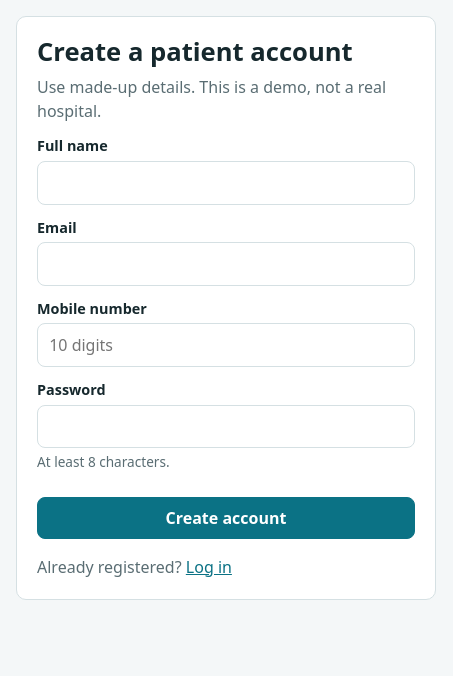
it: Register › shows the server's message when the email is already registered
Step 1. Type "Asha Rao" into the field labelled "Full name" → (226, 183), box left=37, top=161, right=415, bottom=205
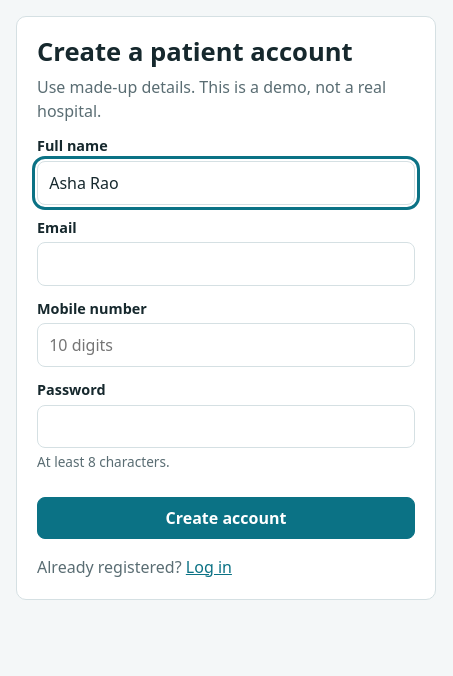
Step 2. Type "asha@example.com" into the field labelled "Email" → (226, 264), box left=37, top=242, right=415, bottom=286
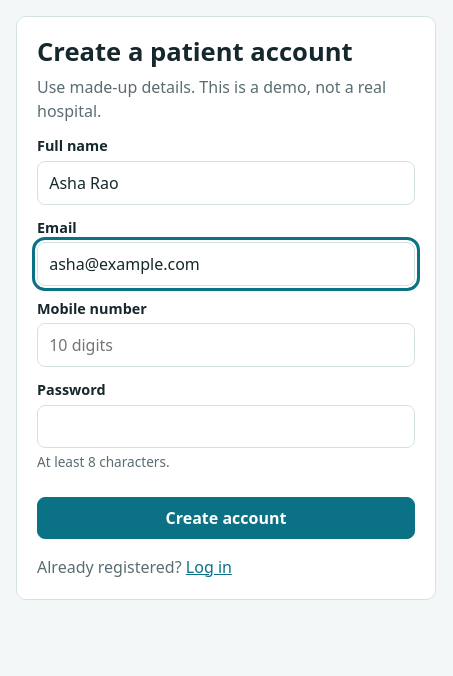
Step 3. Type "9876543210" into the field labelled "Mobile number" → (226, 345), box left=37, top=323, right=415, bottom=367
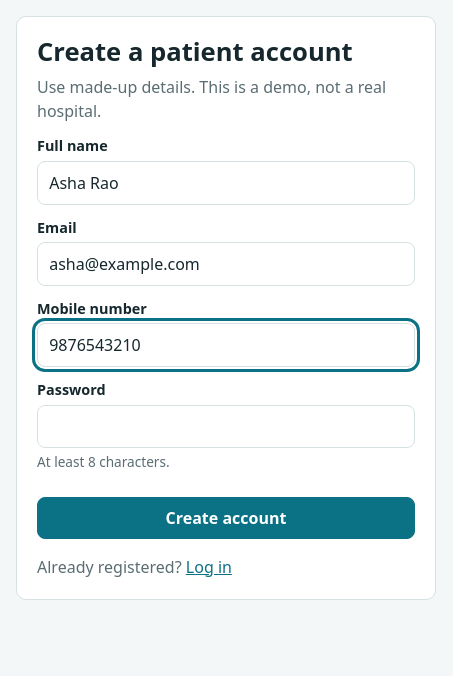
Step 4. Type "long-enough-1" into the password field labelled "Password" → (226, 426), box left=37, top=405, right=415, bottom=448
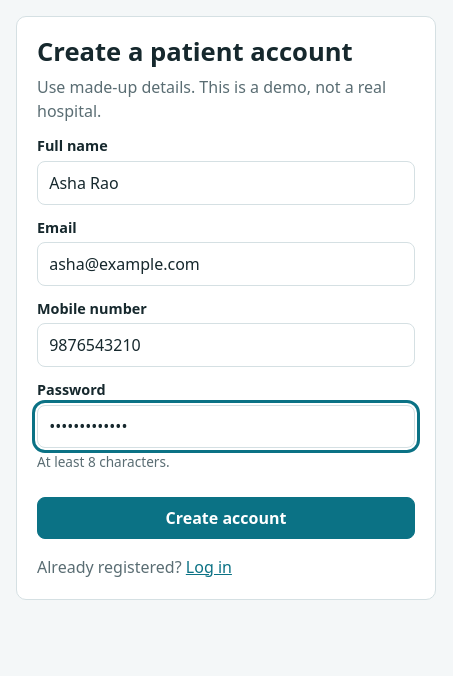
Step 5. Click the button "Create account" → (226, 518), box left=37, top=497, right=415, bottom=539
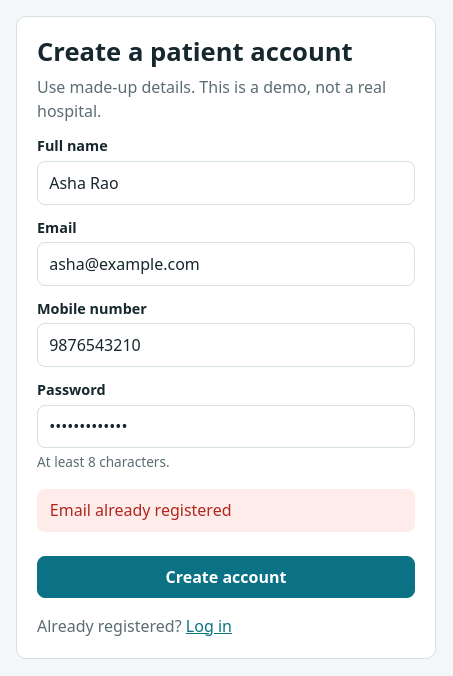
Check: the message reads "Email already registered", box left=50, top=499, right=232, bottom=521
